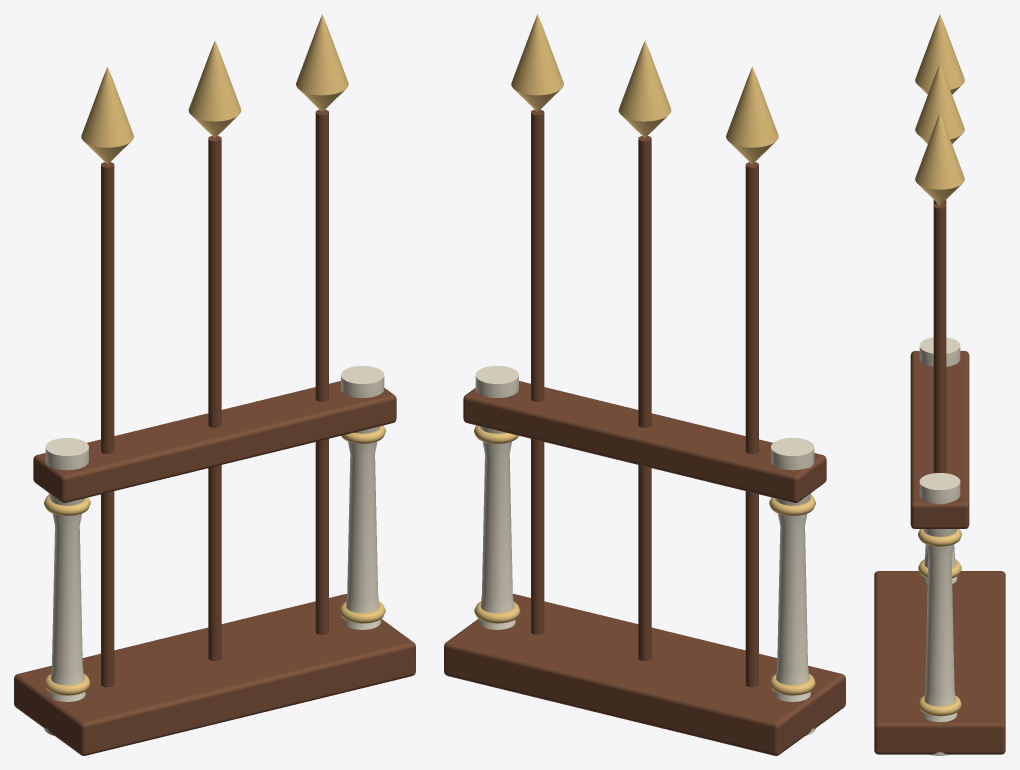
File: royal-court-and-throne-palace-ceremonial-guard-spear-r-f754ea3c__29389.glb
3 renders of one model, left to right at view 1: azimuth 30°, elevation 25°; view 2: azimuth 150°, elevation 25°; view 3: azimuth 270°, elevation 25°, orthographic. The views are drawn at different scales.
Visible parts, largest first — view 1: ceremonial-guard-spear-rack; view 2: ceremonial-guard-spear-rack; view 3: ceremonial-guard-spear-rack.
Boxes of the visible parts, x1,y1,x2,y2 form: ceremonial-guard-spear-rack: [14, 14, 415, 755]; ceremonial-guard-spear-rack: [444, 14, 845, 755]; ceremonial-guard-spear-rack: [874, 14, 1005, 755].
Size of the model in its own units: 1.25 by 2.32 by 0.4499.
